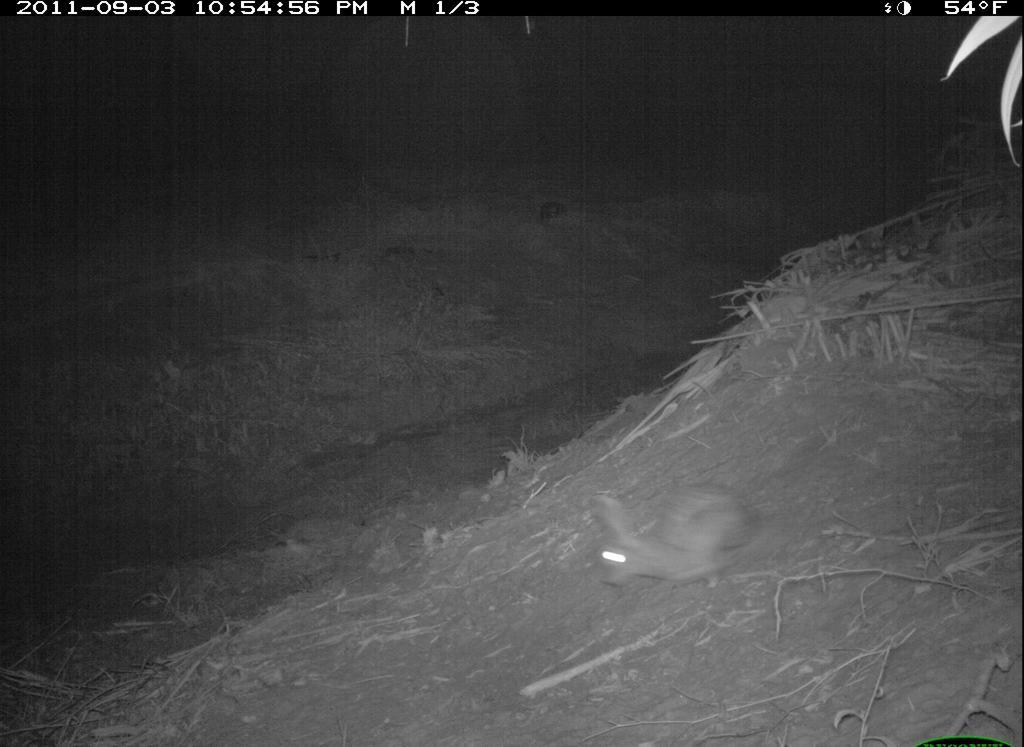rabbit: (577, 466, 767, 593)
